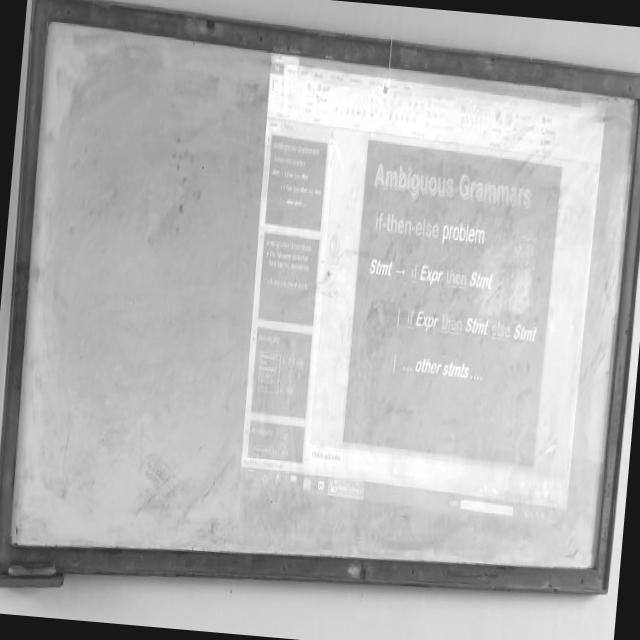Slide: (239, 31, 603, 525)
White-board: (1, 0, 640, 581)
